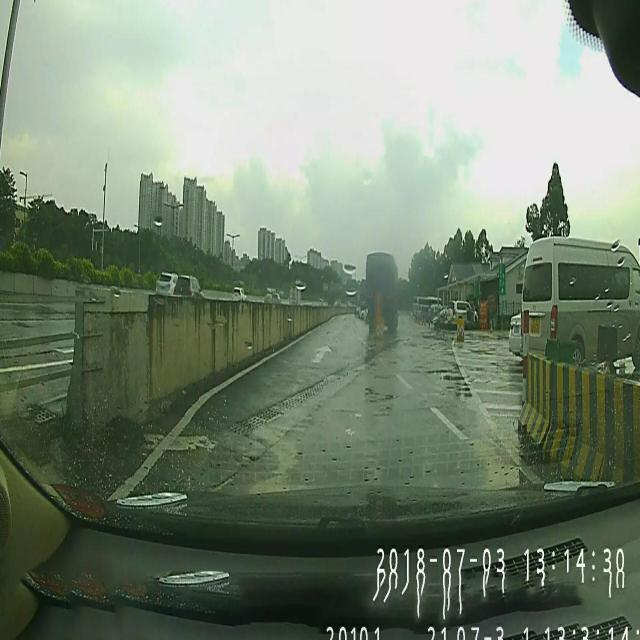car: (507, 312, 525, 354)
